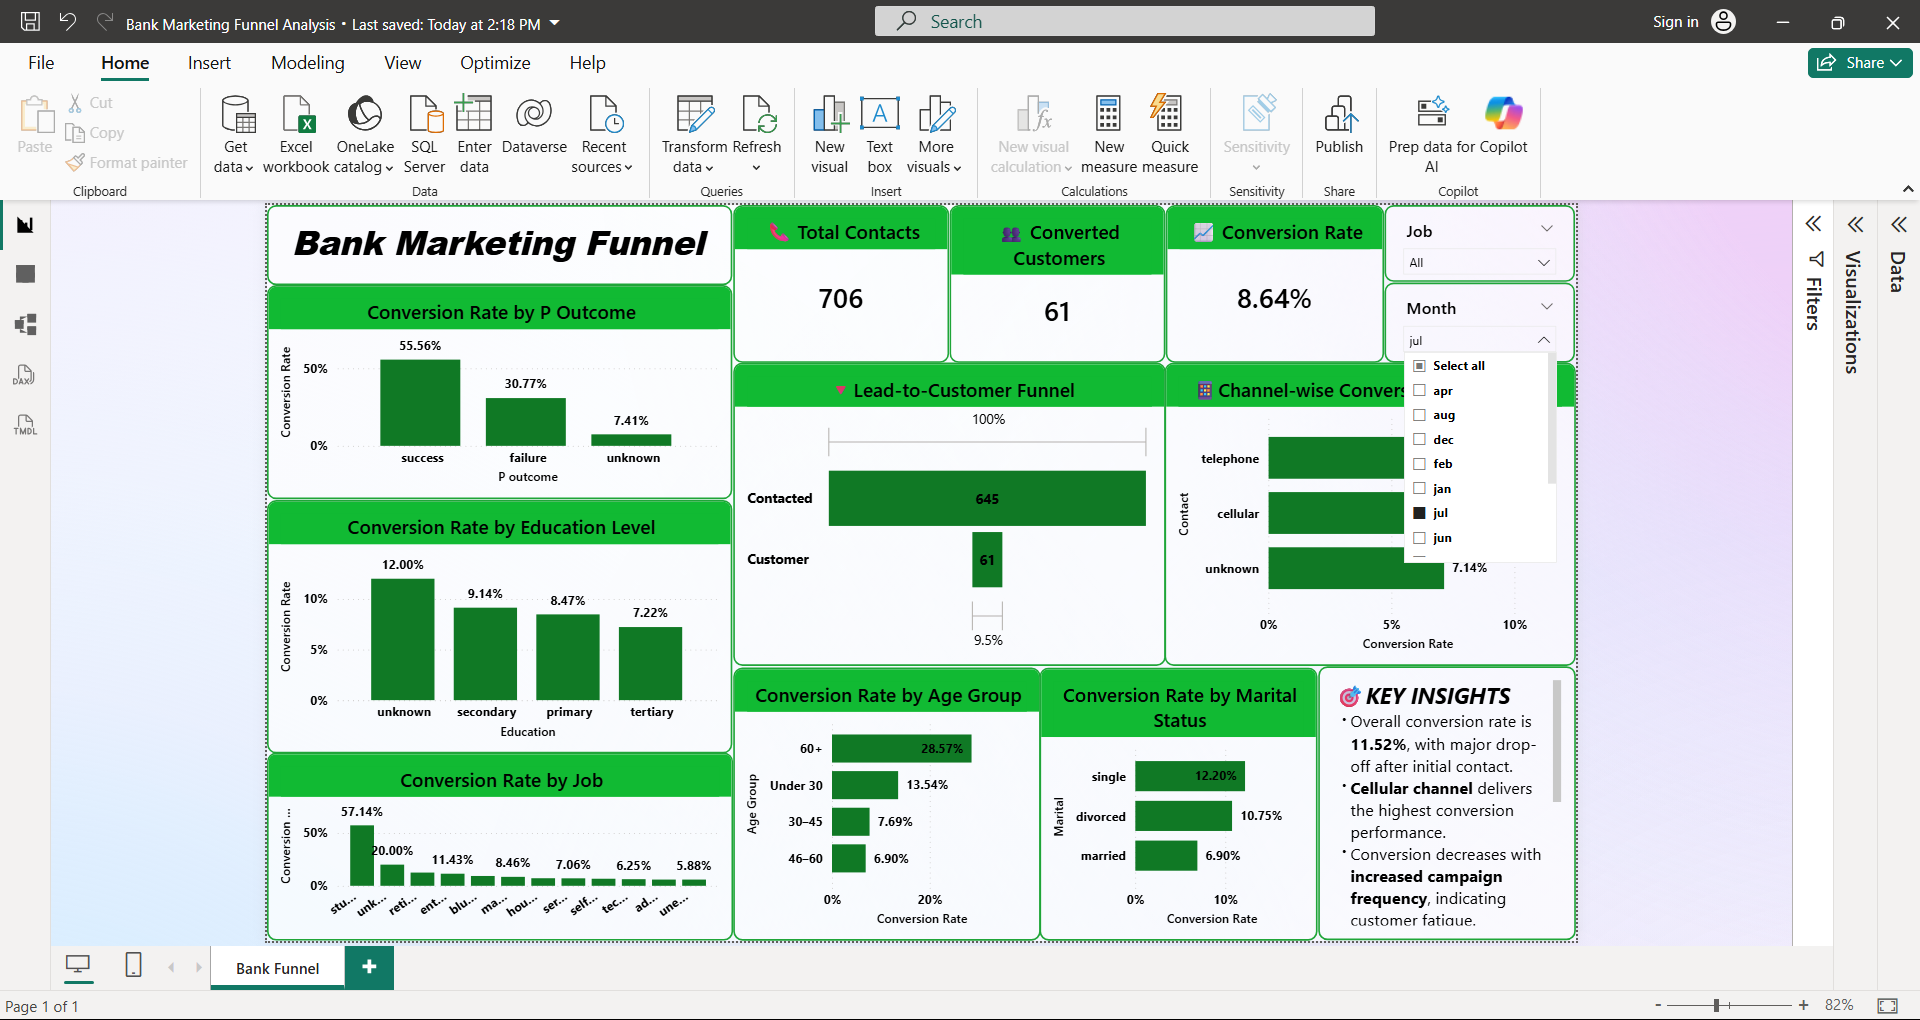

This screenshot's page, from the dashboard's own definition file:
{"tool":"powerbi","page":{"name":"Page 1","canvas":[1280,720],"ordinal":0},"visuals":[{"type":"card","title":"Total Contacts","fields":{"Values":["Cleaned_Bank_data.Total Contacts"]},"box":[455.6,0,211.3,153.7],"z":0},{"type":"card","title":"Converted Customers","fields":{"Values":["Cleaned_Bank_data.Total Customers"]},"box":[666.9,0,219.6,153.7],"z":1000},{"type":"card","title":"Conversion Rate","fields":{"Values":["Cleaned_Bank_data.Conversion Rate"]},"box":[886.6,0,210.3,154.1],"z":2000},{"type":"funnel","title":"Lead-to-Customer Funnel","fields":{"Y":["Cleaned_Bank_data.Funnel Count"],"Category":["Cleaned_Bank_data.Funnel Stage"]},"box":[455.6,153.7,413,299.1],"z":3000},{"type":"clusteredBarChart","title":"Channel-wise Conversion Performance","fields":{"Category":["Cleaned_Bank_data.Contact"],"Y":["Cleaned_Bank_data.Conversion Rate"]},"box":[868.6,153.7,411.7,299.1],"z":4000},{"type":"slicer","fields":{"Values":["Cleaned_Bank_data.Month"]},"box":[1093.7,75.5,186.6,78.2],"z":5000},{"type":"slicer","fields":{"Values":["Cleaned_Bank_data.Job"]},"box":[1093.7,0,186.6,75.5],"z":6000},{"type":"clusteredBarChart","title":"Conversion Rate by Marital Status","fields":{"Category":["Cleaned_Bank_data.Marital"],"Y":["Cleaned_Bank_data.Conversion Rate"]},"box":[756.1,452.8,271.7,267.6],"z":7000},{"type":"clusteredColumnChart","title":"Conversion Rate by Education Level","fields":{"Category":["Cleaned_Bank_data.Education"],"Y":["Cleaned_Bank_data.Conversion Rate"]},"box":[0,288.2,455.6,248.4],"z":8000},{"type":"clusteredBarChart","fields":{"Category":["Cleaned_Bank_data.Age Group"],"Y":["Cleaned_Bank_data.Conversion Rate"]},"box":[455.6,452.8,300.5,267.6],"z":9000},{"type":"clusteredColumnChart","title":"Conversion Rate by P Outcome","fields":{"Y":["Cleaned_Bank_data.Conversion Rate"],"Category":["Cleaned_Bank_data.P out Come"]},"box":[0,78.2,455.6,209.9],"z":10000},{"type":"textbox","title":"Bank Marketing Funnel","box":[0,0,455.6,78.2],"z":11000},{"type":"clusteredColumnChart","fields":{"Category":["Cleaned_Bank_data.Job"],"Y":["Cleaned_Bank_data.Conversion Rate"]},"box":[0,536,456,184],"z":12000},{"type":"textbox","box":[1028.4,451.2,251.9,267.8],"z":13000}]}

Visuals, with their boxes on the page's 1280x720 design canvas (x1, y1, x2, y2). These are canvas units, not pixel positions in the 1920x1020 screenshot, which may show the page scaled, cropped or inside an application window:
"Total Contacts" card: select_region(456, 0, 667, 154)
"Converted Customers" card: select_region(667, 0, 886, 154)
"Conversion Rate" card: select_region(887, 0, 1097, 154)
"Lead-to-Customer Funnel" funnel: select_region(456, 154, 869, 453)
"Channel-wise Conversion Performance" clusteredBarChart: select_region(869, 154, 1280, 453)
slicer - Cleaned_Bank_data.Month: select_region(1094, 76, 1280, 154)
slicer - Cleaned_Bank_data.Job: select_region(1094, 0, 1280, 76)
"Conversion Rate by Marital Status" clusteredBarChart: select_region(756, 453, 1028, 720)
"Conversion Rate by Education Level" clusteredColumnChart: select_region(0, 288, 456, 537)
clusteredBarChart - Cleaned_Bank_data.Age Group x Cleaned_Bank_data.Conversion Rate: select_region(456, 453, 756, 720)
"Conversion Rate by P Outcome" clusteredColumnChart: select_region(0, 78, 456, 288)
"Bank Marketing Funnel" textbox: select_region(0, 0, 456, 78)
clusteredColumnChart - Cleaned_Bank_data.Job x Cleaned_Bank_data.Conversion Rate: select_region(0, 536, 456, 720)
textbox: select_region(1028, 451, 1280, 719)
